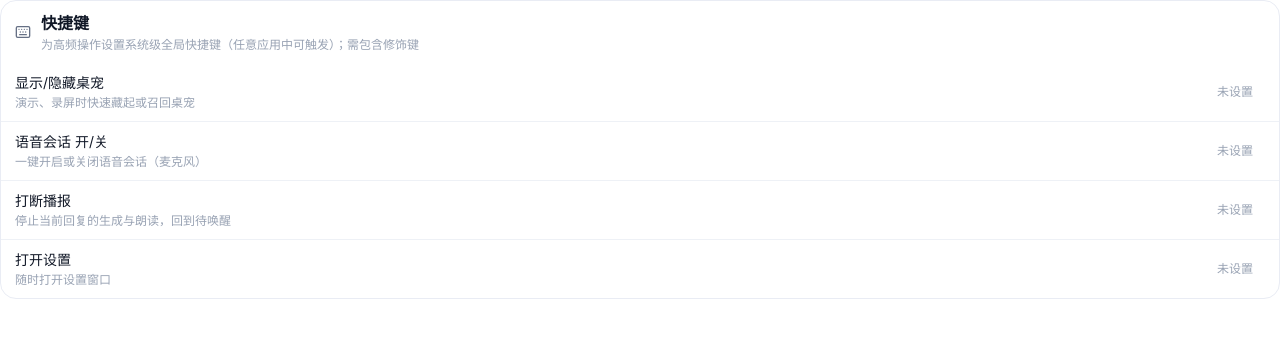
Test: ShortcutsSection › 后端注册失败：显示错误且原绑定不变
This screenshot has width=1280, height=342.
Click the button with aria-label "设置 打开设置 快捷键" at (1235, 269), box [1205,253,1265,285]
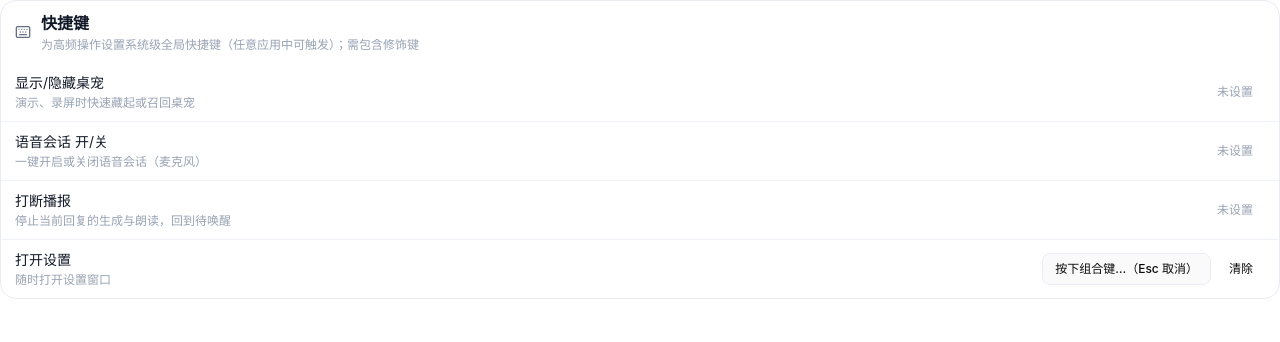
Press KeyP
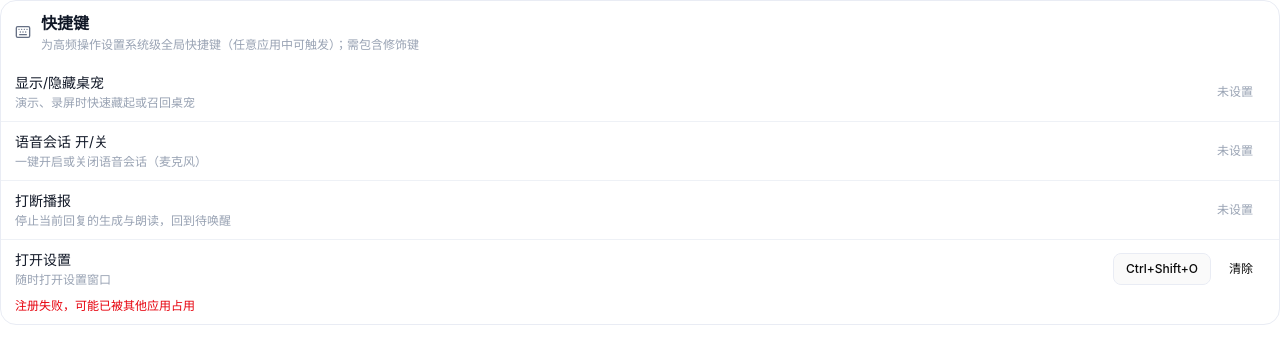
Check: the text "注册失败，可能已被其他应用占用" is shown, box [15,298,195,313]
Check: the button with aria-label "设置 打开设置 快捷键" shows "O", box [1113,253,1211,285]
